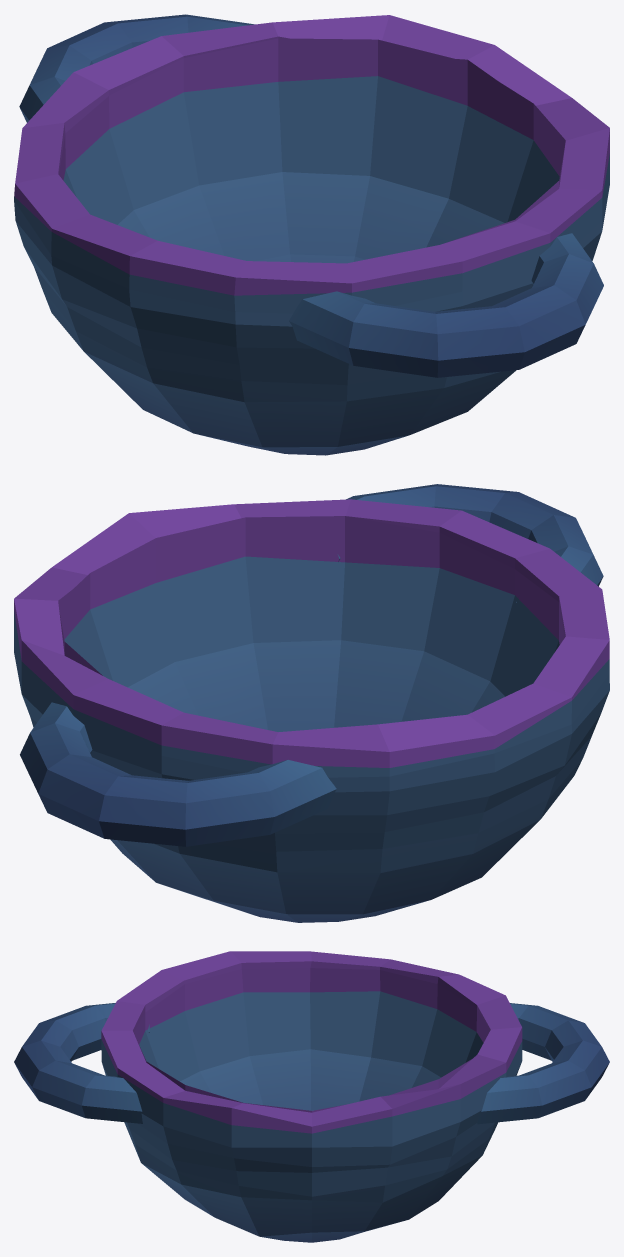
File: чаша.fbx
The picture shows the model from 3 angles, top to bottom: view 1: azimuth 30°, elevation 25°; view 2: azimuth 150°, elevation 25°; view 3: azimuth 270°, elevation 25°; orthographic projection. The views are drawn at different scales.
Parts seen in each view (by area): view 1: Sphere.007; view 2: Sphere.007; view 3: Sphere.007.
Boxes of the visible parts, x1=… form: Sphere.007: x1=14, y1=14, x2=609, y2=455; Sphere.007: x1=14, y1=484, x2=609, y2=922; Sphere.007: x1=14, y1=951, x2=609, y2=1242.
Bounding box in the file's own units: 1116 × 589 × 1582.
